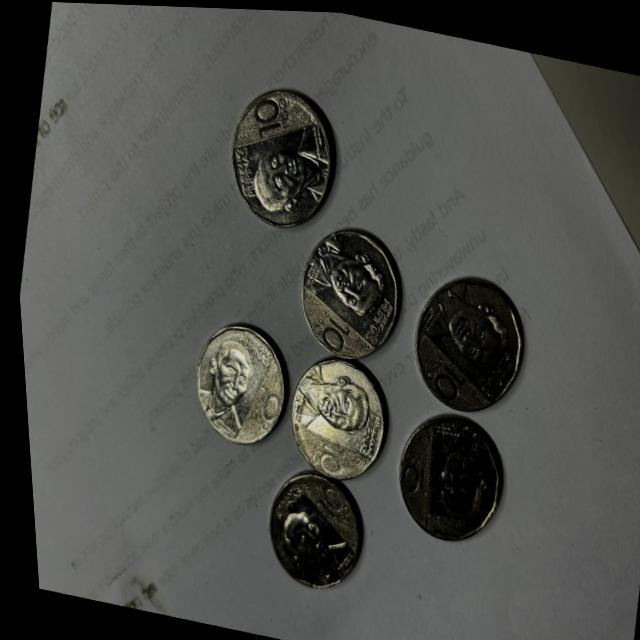10_New_Front: (233, 82, 300, 152), (414, 341, 468, 403), (385, 431, 430, 504), (235, 377, 283, 442), (300, 301, 357, 346), (301, 482, 356, 528), (295, 429, 350, 474)
